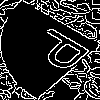P: (25, 25, 100, 80)
